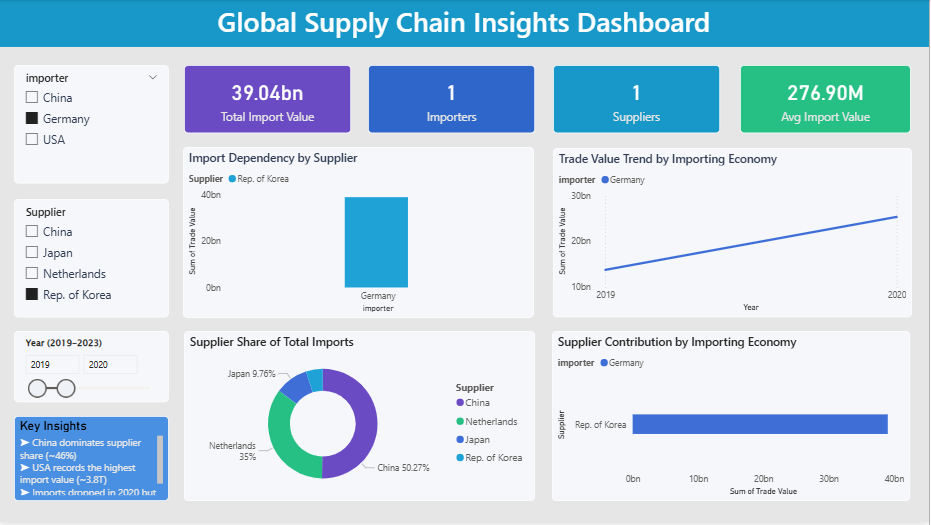

The page's visual inventory and layout, read from the dashboard file:
{"tool":"powerbi","page":{"name":"Page 1","canvas":[1280,720],"ordinal":0},"visuals":[{"type":"clusteredBarChart","title":"Supplier Contribution by Importing Economy","fields":{"Category":["Sheet1.Supplier"],"Y":["Sum(Sheet1.Trade Value)"],"Series":["Sheet1.importer"]},"box":[761.1,456.9,492.7,234],"z":0},{"type":"lineChart","title":"Trade Value Trend by Importing Economy","fields":{"Category":["Sheet1.Year"],"Y":["Sum(Sheet1.Trade Value)"],"Series":["Sheet1.importer"]},"box":[762.5,205.1,494.1,232.6],"z":1000},{"type":"donutChart","title":"Supplier Share of Total Imports","fields":{"Category":["Sheet1.Supplier"],"Y":["Sum(Sheet1.Trade Value)"]},"box":[254.6,456.9,483.1,234],"z":2000},{"type":"lineStackedColumnComboChart","title":"Import Dependency by Supplier","fields":{"Category":["Sheet1.importer"],"Y":["Sum(Sheet1.Trade Value)"],"Series":["Sheet1.Supplier"]},"box":[253.2,203.7,483.1,235.4],"z":3000},{"type":"slicer","fields":{"Values":["Sheet1.importer"]},"box":[21.2,91.2,212.5,162.5],"z":4000},{"type":"slicer","fields":{"Values":["Sheet1.Supplier"]},"box":[21.2,275,212.5,162.5],"z":5000},{"type":"slicer","fields":{"Values":["Sheet1.Year"]},"box":[20.6,456.9,213.3,97.7],"z":6000},{"type":"card","fields":{"Values":["Sum(Sheet1.Trade Value)"]},"box":[254.6,90.8,229.8,93.6],"z":7000},{"type":"card","fields":{"Values":["Sheet1.Avg Import Value"]},"box":[1019.9,90.8,235.4,93.6],"z":8000},{"type":"card","fields":{"Values":["Sheet1.Suppliers"]},"box":[762.5,90.8,229.8,93.6],"z":9000},{"type":"card","fields":{"Values":["Sheet1.Importers"]},"box":[507.9,90.8,229.8,93.6],"z":10000},{"type":"textbox","box":[0,0,1280,66.1],"z":11000},{"type":"textbox","title":"Key Insights","box":[20.6,573.9,213.3,117],"z":12000}]}

Visuals, with their boxes in screenshot pixels (x1, y1, x2, y2), scaled from the page's 1280x720 canvas onto the 931x525 screenshot:
"Supplier Contribution by Importing Economy" clusteredBarChart: 554 333 912 504
"Trade Value Trend by Importing Economy" lineChart: 555 150 914 319
"Supplier Share of Total Imports" donutChart: 185 333 537 504
"Import Dependency by Supplier" lineStackedColumnComboChart: 184 149 536 320
slicer - Sheet1.importer: 15 66 170 185
slicer - Sheet1.Supplier: 15 201 170 319
slicer - Sheet1.Year: 15 333 170 404
card - Sum(Sheet1.Trade Value): 185 66 352 134
card - Sheet1.Avg Import Value: 742 66 913 134
card - Sheet1.Suppliers: 555 66 722 134
card - Sheet1.Importers: 369 66 537 134
textbox: 0 0 930 48
"Key Insights" textbox: 15 418 170 504
